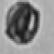correct: (3, 0, 41, 47)
